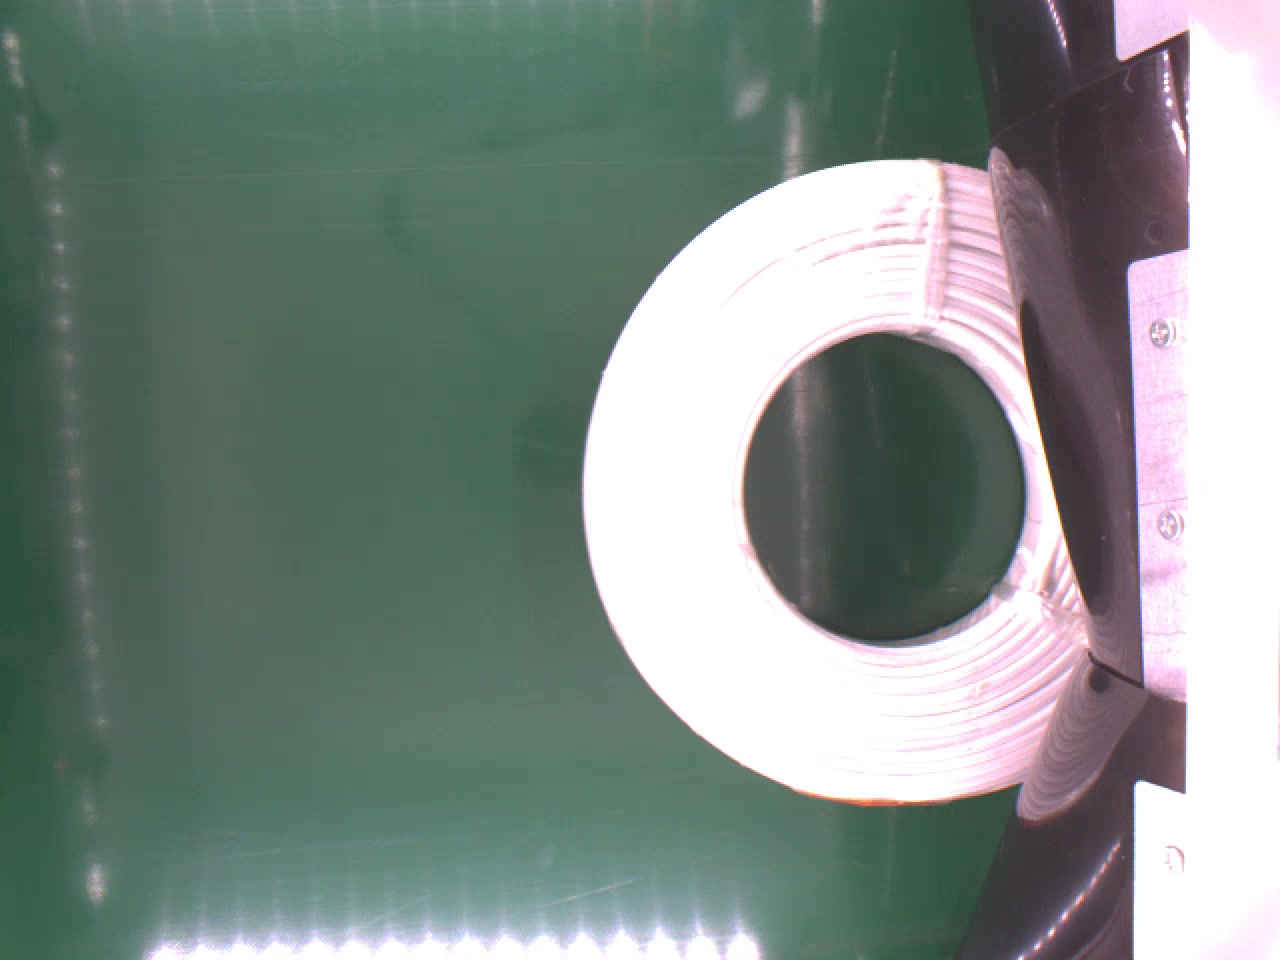white: (582, 160, 1085, 821)
